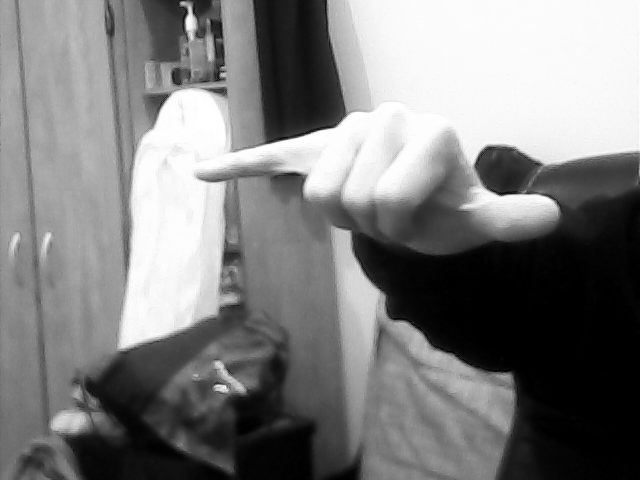aloha: (193, 100, 563, 250)
